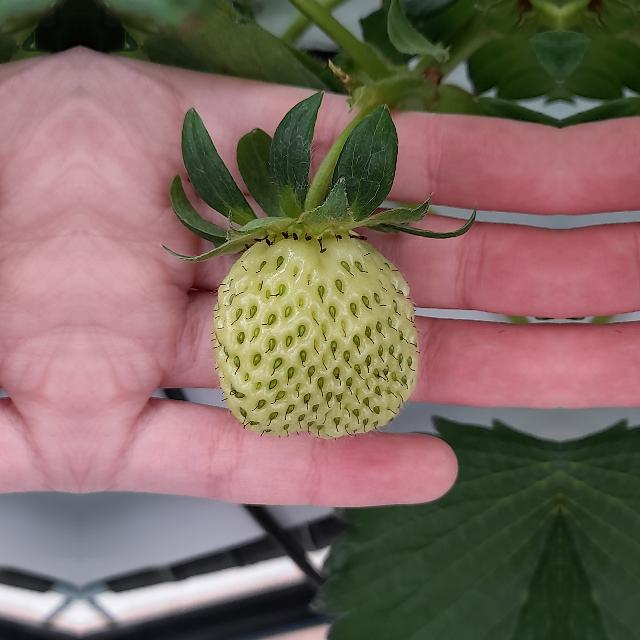Health_25: (212, 234, 420, 440)
